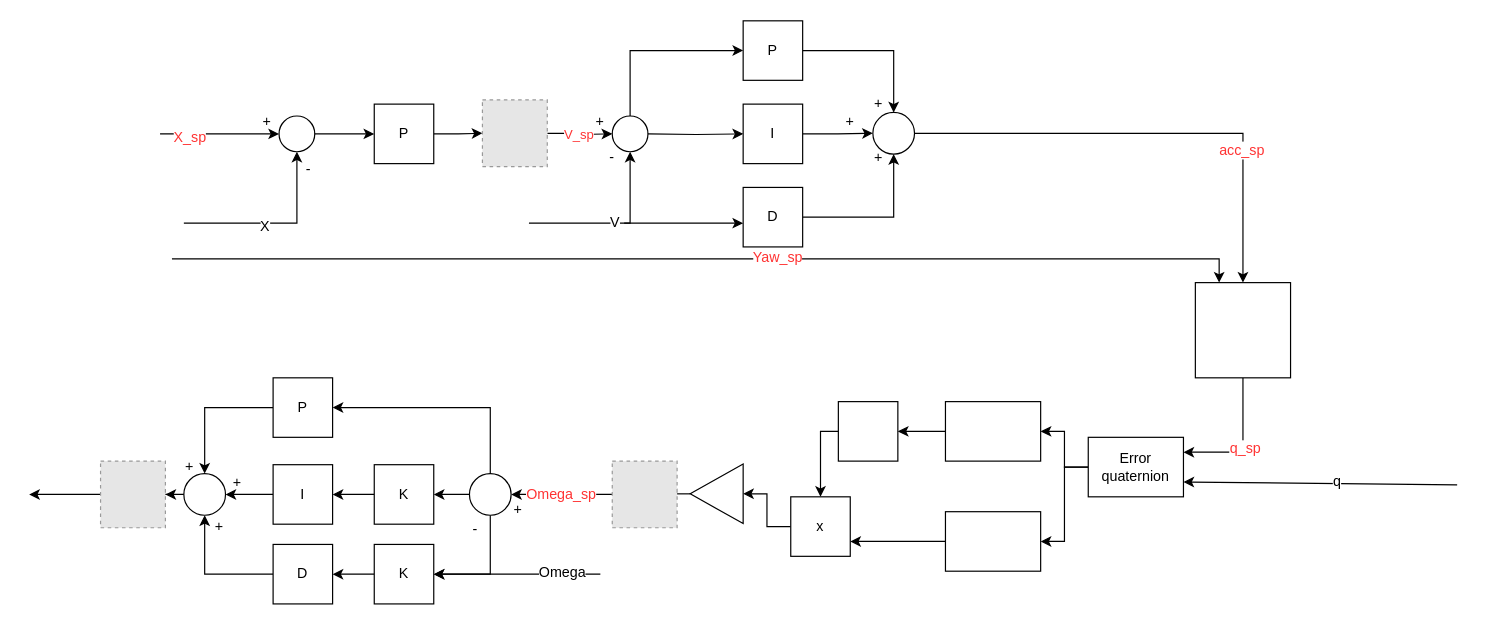
The diagram is 1488 pixels wide and 625 high, and some of its shapes have lost their labels. Grey dashed boxes stand in for pictures. The shapes that lost their labels are listed below. From the top down, each one's box as (x1, y1, x2, y2) in pixels, then its label:
(1194, 281, 1291, 378): Acceleration to attitude
(837, 400, 898, 461): sgn
(944, 400, 1041, 461): Extract Magnitude
(689, 463, 743, 524): 2P
(944, 511, 1041, 571): Extract Component
